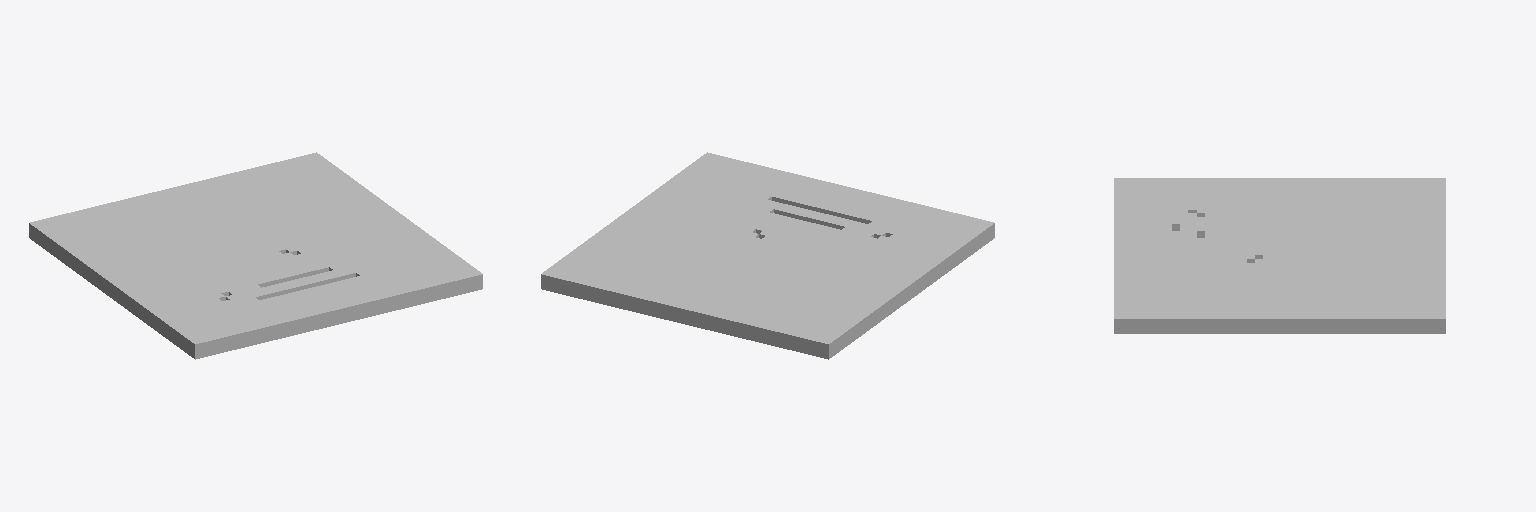
File: floor blood.obj
The picture shows the model from 3 angles: view 1: azimuth 30°, elevation 25°; view 2: azimuth 150°, elevation 25°; view 3: azimuth 270°, elevation 25°; orthographic projection.
Parts seen in each view (by area): view 1: floor blood; view 2: floor blood; view 3: floor blood.
Boxes of the visible parts, box(x1,y1,x2,y2) form: floor blood: box(29, 152, 482, 359); floor blood: box(541, 152, 994, 359); floor blood: box(1114, 178, 1445, 333).
Size of the model in its own units: 40 by 2 by 40.